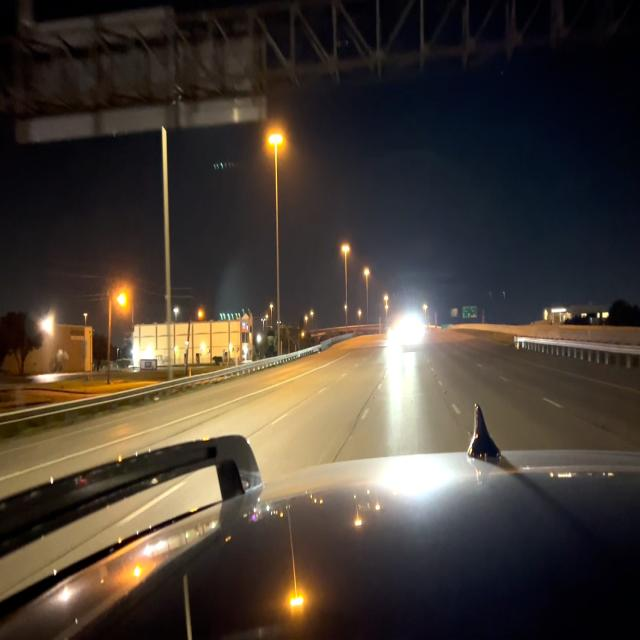back-of-sign: (19, 3, 264, 133)
